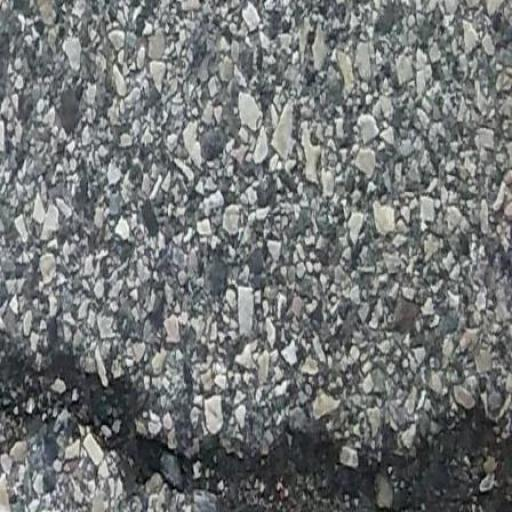spalling: (2, 338, 512, 511)
